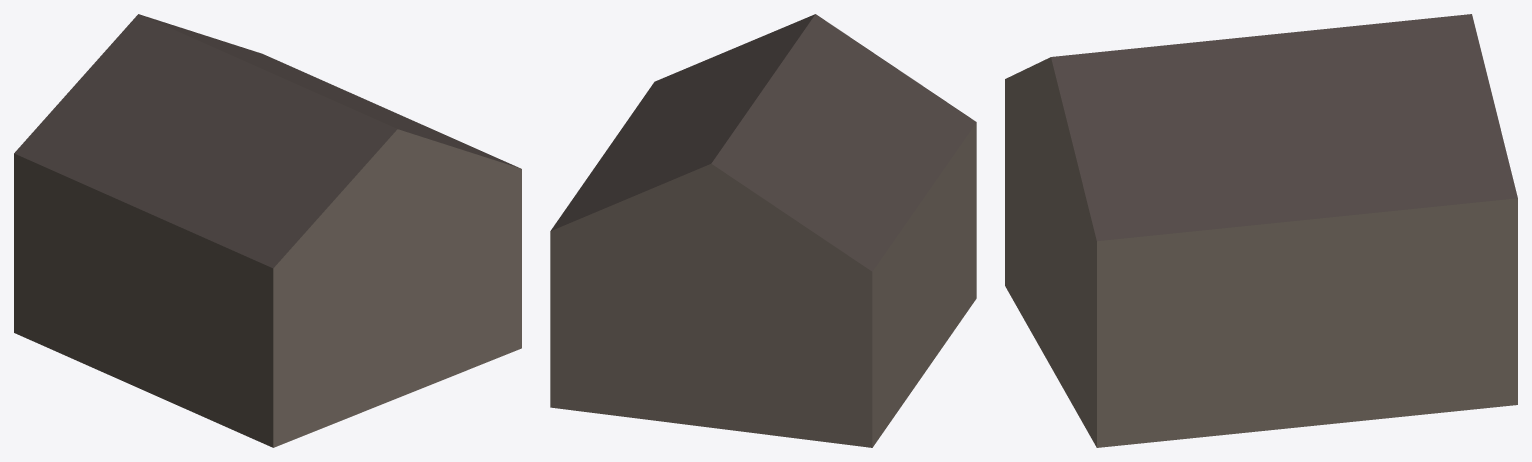
3 renders of one model, left to right at view 1: azimuth 30°, elevation 25°; view 2: azimuth 150°, elevation 25°; view 3: azimuth 270°, elevation 25°, orthographic. The views are drawn at different scales.
Parts seen in each view (by area): view 1: HP-w859467735; view 2: HP-w859467735; view 3: HP-w859467735.
Part boxes in pixels (box(x1,y1,x2,y2)): HP-w859467735: box(14, 14, 521, 447); HP-w859467735: box(550, 14, 976, 447); HP-w859467735: box(1005, 14, 1517, 447).
Bounding box in the file's own units: 12.77 × 9 × 13.49.
